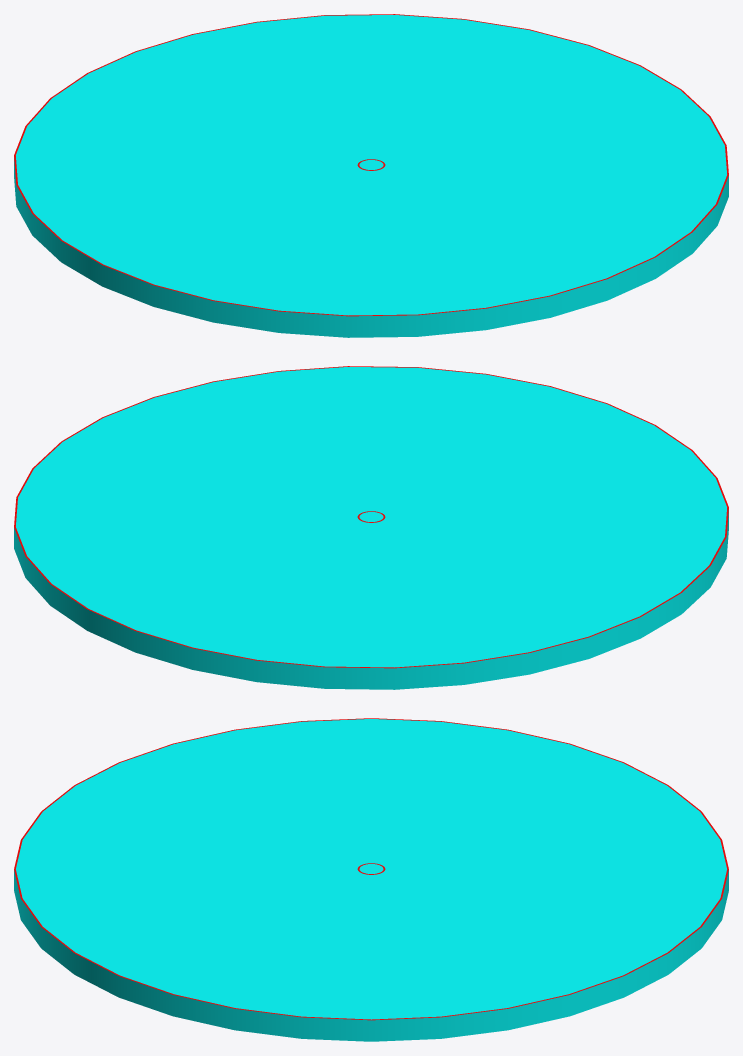
3 views of the same model, one above another, from view 1: azimuth 30°, elevation 25°; view 2: azimuth 150°, elevation 25°; view 3: azimuth 270°, elevation 25° (orthographic).
Parts seen in each view (by area): view 1: L15_CD; view 2: L15_CD; view 3: L15_CD.
Part boxes in pixels (<box>): L15_CD: <box>14,14,728,337</box>; L15_CD: <box>14,366,728,689</box>; L15_CD: <box>14,718,728,1041</box>.
Size of the model in its own units: 5937 by 199 by 5937.
